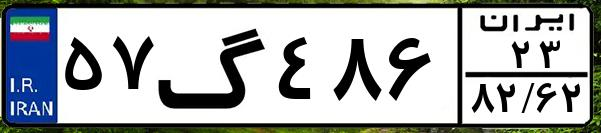2: (560, 70, 590, 125), (508, 27, 537, 80), (495, 70, 520, 125)
3: (537, 27, 568, 80)
4: (270, 28, 330, 110)
5: (57, 26, 110, 100)
6: (385, 28, 445, 110), (535, 70, 560, 125)
7: (110, 28, 156, 98)
8: (330, 28, 385, 110), (470, 70, 495, 125)
گ: (156, 12, 270, 120)
